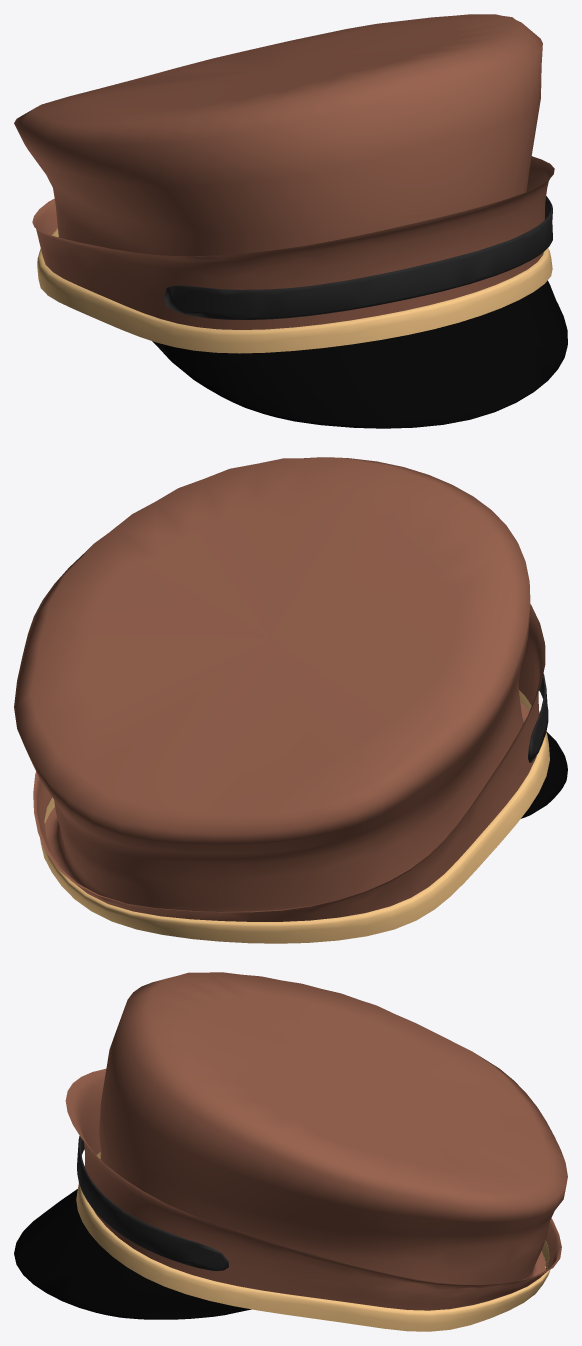
Rendered from hat.fbx.
3 renders of one model, top to bottom at view 1: azimuth 30°, elevation 25°; view 2: azimuth 150°, elevation 25°; view 3: azimuth 270°, elevation 25°, orthographic. The views are drawn at different scales.
Parts seen in each view (by area): view 1: Object_7.001; view 2: Object_7.001; view 3: Object_7.001.
Part boxes in pixels (<box>): Object_7.001: <box>14,14,567,428</box>; Object_7.001: <box>14,457,567,943</box>; Object_7.001: <box>14,972,567,1331</box>.
Size of the model in its own units: 17.16 by 11.02 by 21.55.
